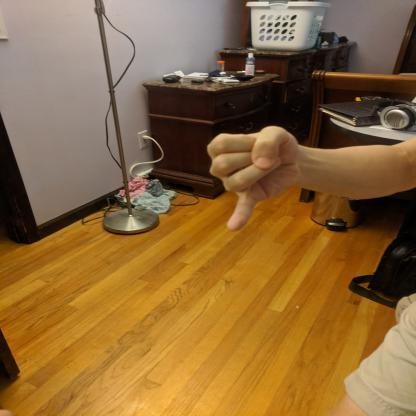J: (201, 120, 303, 235)
